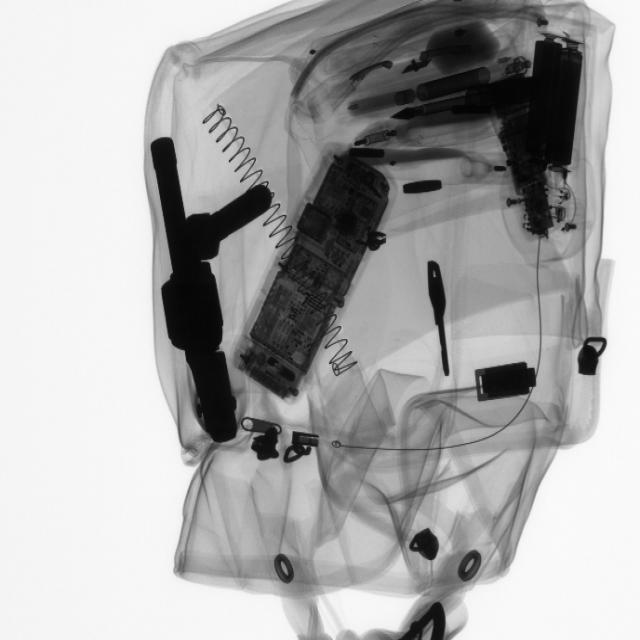GUN: (148, 137, 242, 452)
